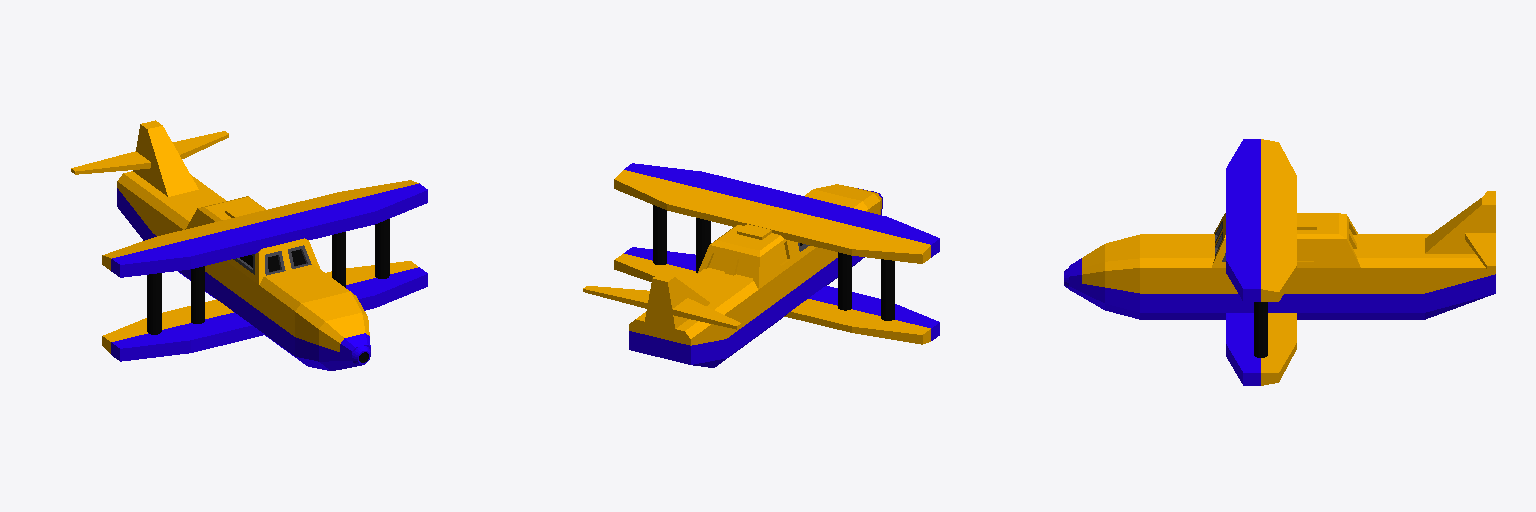
3 renders of one model, left to right at view 1: azimuth 30°, elevation 25°; view 2: azimuth 150°, elevation 25°; view 3: azimuth 270°, elevation 25°, orthographic.
Parts seen in each view (by area): view 1: wing, wing_point, hull_body, hull_frontNose, rudder_sides, attachment_barrelThin, diesel_cabin_front, hull_slant, diesel_cabin_front_basic, diesel_cabin_detail; view 2: wing, wing_point, hull_body, hull_slant, rudder_sides, attachment_barrelThin, diesel_cabin_front_basic, diesel_cabin_detail, hull_frontNose; view 3: hull_body, wing, wing_point, hull_frontNose, hull_slant, rudder_sides, diesel_cabin_front_basic, diesel_cabin_detail, attachment_barrelThin, diesel_cabin_front.
Boxes of the visible parts, x1=… form: wing: x1=157, y1=192, x2=375, y2=352; wing_point: x1=102, y1=180, x2=427, y2=361; hull_body: x1=153, y1=187, x2=349, y2=363; hull_frontNose: x1=295, y1=291, x2=370, y2=370; rudder_sides: x1=71, y1=120, x2=228, y2=196; attachment_barrelThin: x1=147, y1=219, x2=389, y2=334; diesel_cabin_front: x1=227, y1=238, x2=319, y2=284; hull_slant: x1=117, y1=171, x2=206, y2=240; diesel_cabin_front_basic: x1=185, y1=196, x2=256, y2=229; diesel_cabin_detail: x1=207, y1=202, x2=265, y2=223; wing: x1=667, y1=172, x2=886, y2=332; wing_point: x1=614, y1=163, x2=939, y2=344; hull_body: x1=684, y1=189, x2=868, y2=366; hull_slant: x1=629, y1=303, x2=725, y2=367; rudder_sides: x1=583, y1=273, x2=740, y2=329; attachment_barrelThin: x1=653, y1=205, x2=894, y2=320; diesel_cabin_front_basic: x1=697, y1=235, x2=775, y2=289; diesel_cabin_detail: x1=722, y1=224, x2=796, y2=276; hull_frontNose: x1=815, y1=184, x2=882, y2=214; hull_body: x1=1140, y1=234, x2=1424, y2=319; wing: x1=1226, y1=169, x2=1296, y2=342; wing_point: x1=1226, y1=139, x2=1296, y2=385; hull_frontNose: x1=1069, y1=235, x2=1139, y2=319; hull_slant: x1=1425, y1=234, x2=1495, y2=319; rudder_sides: x1=1425, y1=191, x2=1495, y2=268; diesel_cabin_front_basic: x1=1325, y1=213, x2=1360, y2=267; diesel_cabin_detail: x1=1297, y1=213, x2=1324, y2=267; attachment_barrelThin: x1=1254, y1=302, x2=1267, y2=357; diesel_cabin_front: x1=1212, y1=213, x2=1225, y2=267.
Bounding box in the file's own units: 5 × 1.7 × 6.07.